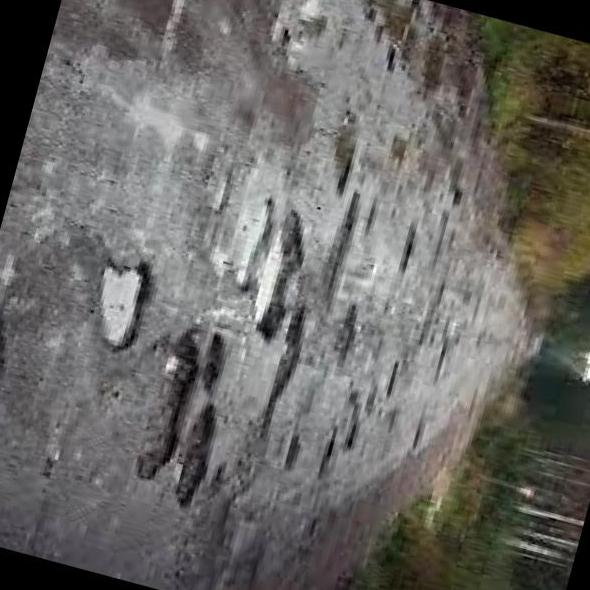pothole: (130, 329, 206, 487), (76, 237, 166, 367), (244, 214, 311, 344), (159, 402, 228, 520), (311, 188, 370, 322), (256, 301, 311, 444), (228, 193, 282, 303), (319, 116, 371, 203), (324, 309, 358, 375), (196, 334, 230, 395), (334, 392, 366, 454), (274, 424, 307, 478), (0, 311, 17, 403), (314, 427, 342, 479), (396, 230, 420, 279), (380, 358, 405, 402), (406, 414, 428, 453)
